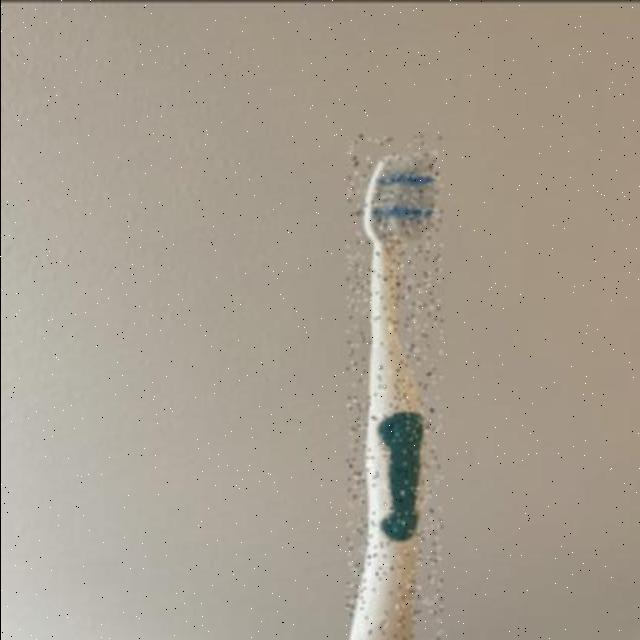toothbrush: (346, 134, 442, 640)
